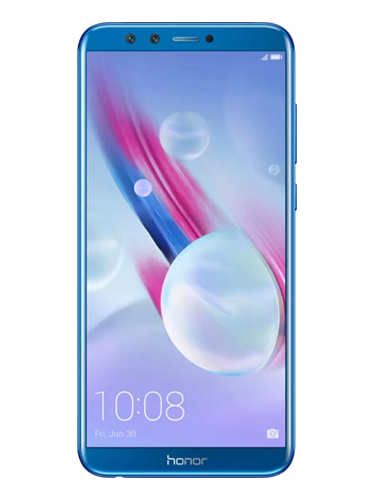mobile: (68, 18, 303, 487)
